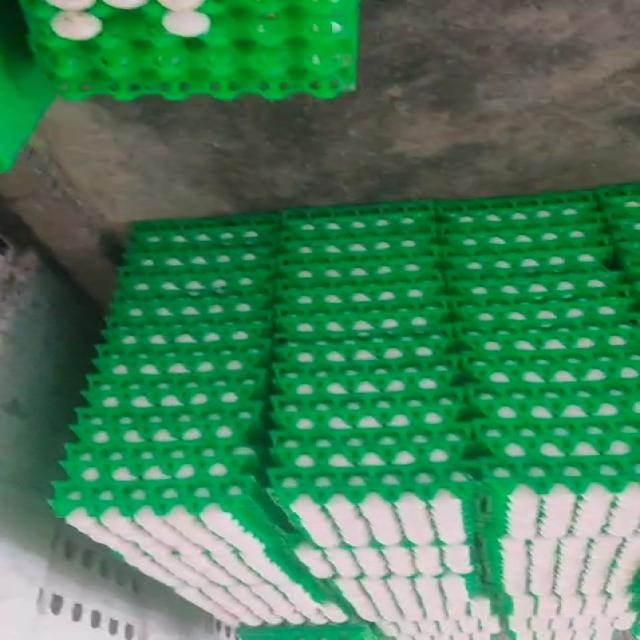egg_tray: (56, 483, 345, 625), (56, 477, 332, 623), (21, 0, 357, 99), (280, 472, 473, 621), (276, 282, 455, 428), (276, 283, 455, 428), (119, 500, 328, 623), (289, 486, 474, 620), (493, 461, 639, 629), (68, 511, 262, 625), (278, 209, 445, 340), (79, 328, 269, 441), (98, 280, 269, 401), (454, 274, 636, 387), (63, 377, 262, 480), (449, 246, 632, 358), (283, 194, 601, 257), (67, 382, 261, 479), (78, 343, 268, 442), (273, 337, 462, 431), (465, 317, 639, 419), (272, 465, 474, 547), (95, 291, 269, 384), (54, 476, 262, 553), (471, 385, 636, 482), (454, 273, 635, 361), (108, 247, 273, 343), (118, 218, 276, 312), (450, 270, 635, 350), (75, 370, 264, 448), (288, 468, 473, 547), (277, 256, 449, 340), (278, 258, 449, 340), (74, 402, 262, 474), (483, 456, 639, 541), (451, 267, 636, 337), (461, 320, 637, 393), (324, 547, 483, 627), (485, 456, 636, 540), (544, 461, 639, 593), (95, 316, 269, 387), (214, 538, 347, 624), (280, 214, 438, 286), (443, 212, 611, 279), (84, 358, 265, 417), (118, 247, 273, 312), (436, 193, 605, 252), (343, 577, 498, 639), (447, 247, 611, 303), (499, 535, 639, 598), (499, 534, 639, 597), (118, 258, 273, 314), (72, 401, 264, 446), (335, 574, 494, 628), (272, 427, 467, 471), (62, 440, 257, 483), (283, 207, 436, 261), (54, 479, 229, 525), (273, 389, 463, 431), (454, 288, 635, 332), (258, 541, 352, 624), (283, 203, 434, 254), (470, 381, 639, 425), (84, 370, 265, 411), (297, 543, 473, 584), (465, 320, 636, 362), (274, 392, 462, 430), (466, 349, 639, 390), (175, 582, 331, 627), (276, 361, 458, 399), (278, 300, 449, 340), (175, 582, 327, 626), (438, 191, 601, 232), (95, 340, 269, 378), (477, 419, 639, 459), (328, 563, 434, 623), (104, 318, 269, 355), (127, 215, 278, 255), (445, 221, 608, 258), (450, 269, 620, 304), (276, 334, 451, 368), (277, 277, 443, 312), (118, 262, 273, 299), (506, 595, 635, 639), (447, 245, 611, 279), (506, 596, 635, 639), (494, 538, 588, 597), (111, 291, 270, 325), (507, 599, 635, 639), (280, 254, 438, 286), (283, 229, 434, 261), (47, 0, 161, 41), (505, 593, 629, 630), (126, 241, 273, 270), (250, 582, 348, 625), (509, 608, 633, 639), (601, 186, 639, 274), (380, 613, 501, 639), (439, 595, 503, 639), (174, 584, 238, 625), (238, 621, 382, 639), (601, 185, 639, 244), (159, 0, 209, 37), (611, 209, 639, 267), (518, 625, 615, 639), (597, 184, 637, 214), (620, 242, 639, 299), (601, 606, 637, 634), (378, 621, 427, 639), (620, 242, 639, 285), (628, 574, 639, 636), (607, 571, 635, 592), (447, 628, 494, 639), (135, 565, 161, 579), (363, 410, 384, 425), (541, 571, 554, 594), (394, 633, 441, 639), (99, 540, 122, 552), (515, 574, 528, 592), (242, 552, 257, 567), (125, 529, 139, 544), (147, 549, 163, 562), (487, 543, 498, 561), (67, 518, 84, 529), (580, 493, 593, 507), (174, 532, 185, 548), (122, 328, 141, 337), (331, 608, 345, 620), (187, 395, 205, 404), (323, 263, 339, 273), (299, 416, 312, 428), (237, 248, 256, 256), (390, 416, 406, 425), (430, 273, 441, 286), (283, 475, 293, 489), (102, 509, 112, 522), (388, 547, 403, 555), (150, 346, 170, 352), (487, 210, 499, 220), (631, 284, 639, 299), (494, 560, 502, 574), (380, 474, 396, 481), (284, 616, 300, 623), (262, 526, 272, 537), (588, 553, 597, 564), (616, 596, 624, 608), (205, 537, 214, 547), (412, 474, 423, 482), (300, 265, 312, 272), (627, 615, 633, 628), (125, 347, 138, 353), (182, 337, 193, 344), (474, 603, 482, 611), (254, 586, 262, 594), (111, 544, 121, 550), (268, 617, 278, 623), (435, 278, 441, 288), (232, 327, 240, 334), (590, 587, 598, 594), (204, 327, 210, 336), (216, 466, 225, 472), (300, 418, 309, 424), (155, 335, 161, 343), (170, 553, 178, 559), (162, 399, 170, 405), (411, 614, 426, 617), (186, 310, 195, 315), (430, 634, 438, 639), (471, 240, 481, 244), (629, 616, 633, 626), (546, 576, 552, 582), (333, 553, 337, 562), (596, 617, 600, 626), (611, 290, 620, 294), (107, 522, 112, 529), (217, 280, 224, 285), (163, 489, 171, 493), (577, 562, 582, 568), (386, 486, 396, 489), (600, 605, 605, 611), (304, 554, 308, 561), (146, 539, 153, 543), (209, 309, 218, 312), (576, 562, 582, 566), (245, 620, 253, 623), (163, 570, 169, 574), (112, 20, 119, 23), (118, 24, 122, 29), (406, 402, 410, 407), (419, 474, 423, 479), (428, 280, 432, 285), (237, 573, 241, 578), (432, 597, 434, 606), (218, 361, 221, 367), (187, 281, 193, 284), (382, 259, 386, 263), (165, 408, 173, 410), (143, 346, 147, 350), (545, 498, 548, 503), (138, 489, 143, 492), (427, 285, 432, 288), (316, 477, 321, 480), (292, 583, 296, 586), (483, 601, 487, 604), (131, 526, 134, 530), (569, 608, 574, 610), (558, 345, 561, 348), (561, 492, 565, 494), (205, 572, 207, 576), (158, 579, 162, 581), (462, 569, 466, 571), (304, 426, 312, 427), (132, 538, 134, 542), (403, 247, 410, 248), (120, 31, 122, 34), (246, 382, 252, 383), (609, 558, 612, 560), (265, 598, 267, 601), (177, 384, 179, 386), (258, 372, 262, 373), (355, 262, 359, 263), (446, 627, 450, 628), (507, 562, 509, 564), (92, 473, 94, 475), (238, 538, 240, 540), (234, 479, 236, 481), (258, 624, 262, 625), (120, 282, 122, 284), (161, 276, 162, 280), (230, 586, 232, 588), (463, 215, 465, 217), (436, 274, 438, 276), (558, 628, 561, 629), (319, 476, 320, 479), (166, 531, 167, 534), (321, 408, 324, 409), (293, 584, 295, 585), (486, 354, 487, 356), (238, 460, 240, 461), (230, 389, 232, 390), (249, 315, 250, 317), (226, 517, 228, 518), (117, 409, 119, 410), (195, 584, 197, 585), (584, 628, 585, 630), (127, 527, 129, 528), (470, 214, 471, 216), (578, 507, 580, 508), (504, 274, 506, 275), (240, 311, 241, 312), (138, 447, 139, 448), (469, 283, 470, 284), (545, 587, 546, 588), (174, 407, 175, 408), (98, 361, 99, 362), (627, 235, 628, 236), (406, 422, 407, 423), (315, 482, 316, 483), (561, 276, 562, 277), (206, 574, 208, 574), (215, 334, 217, 334), (99, 540, 103, 540), (196, 490, 202, 490), (74, 452, 76, 452), (529, 212, 530, 212), (242, 580, 246, 580)
